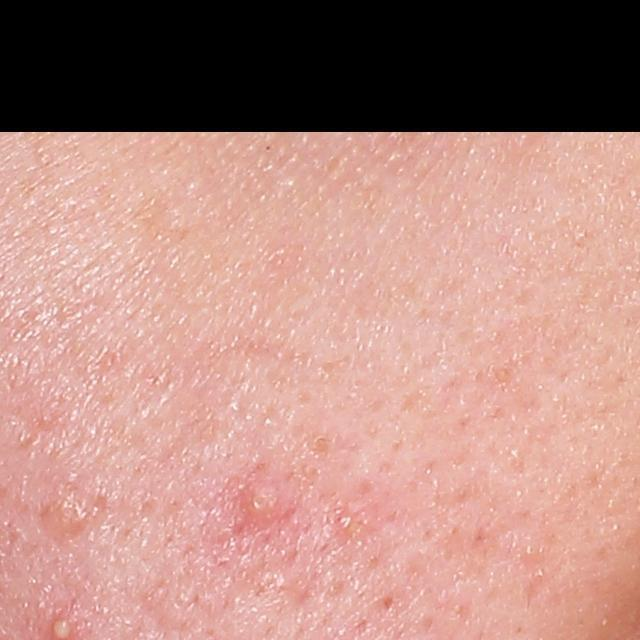melasma: (132, 184, 193, 249)
